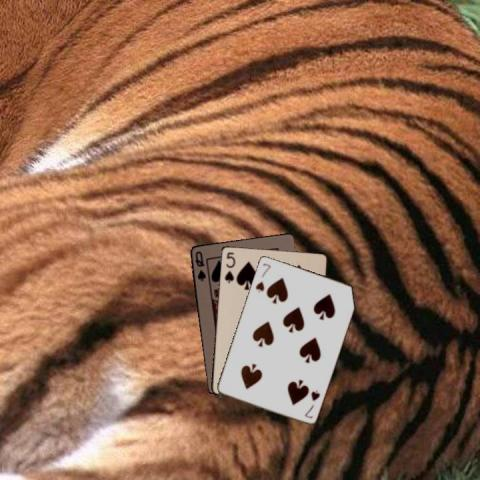5s: (221, 249, 236, 285)
7s: (301, 388, 322, 420), (252, 260, 272, 293)
Qs: (192, 248, 207, 282)
